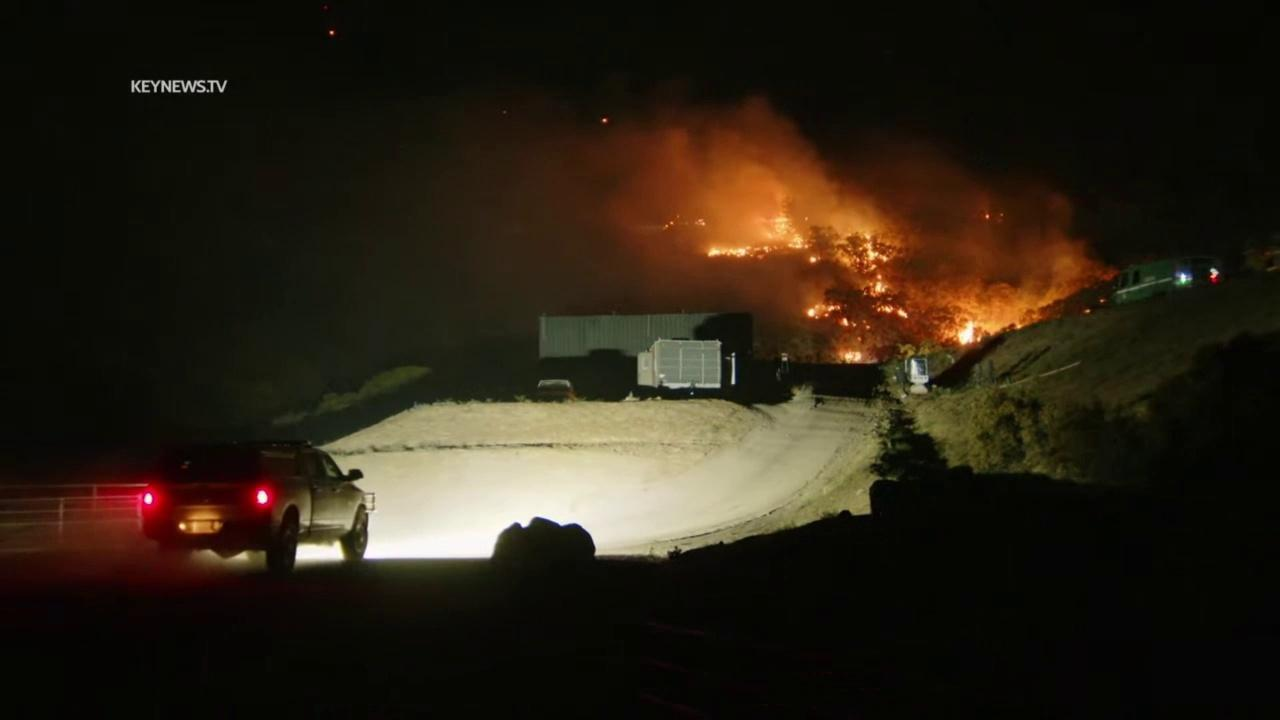fire: (762, 214, 809, 253), (855, 235, 890, 273), (861, 273, 889, 298), (707, 245, 753, 259), (957, 318, 977, 347), (806, 304, 840, 320), (876, 303, 909, 319), (842, 350, 863, 364), (808, 255, 822, 265), (838, 317, 849, 327), (694, 218, 707, 226), (599, 117, 609, 124), (985, 214, 991, 220), (669, 221, 674, 225), (664, 224, 669, 228)
smoke: (314, 71, 1124, 369)
